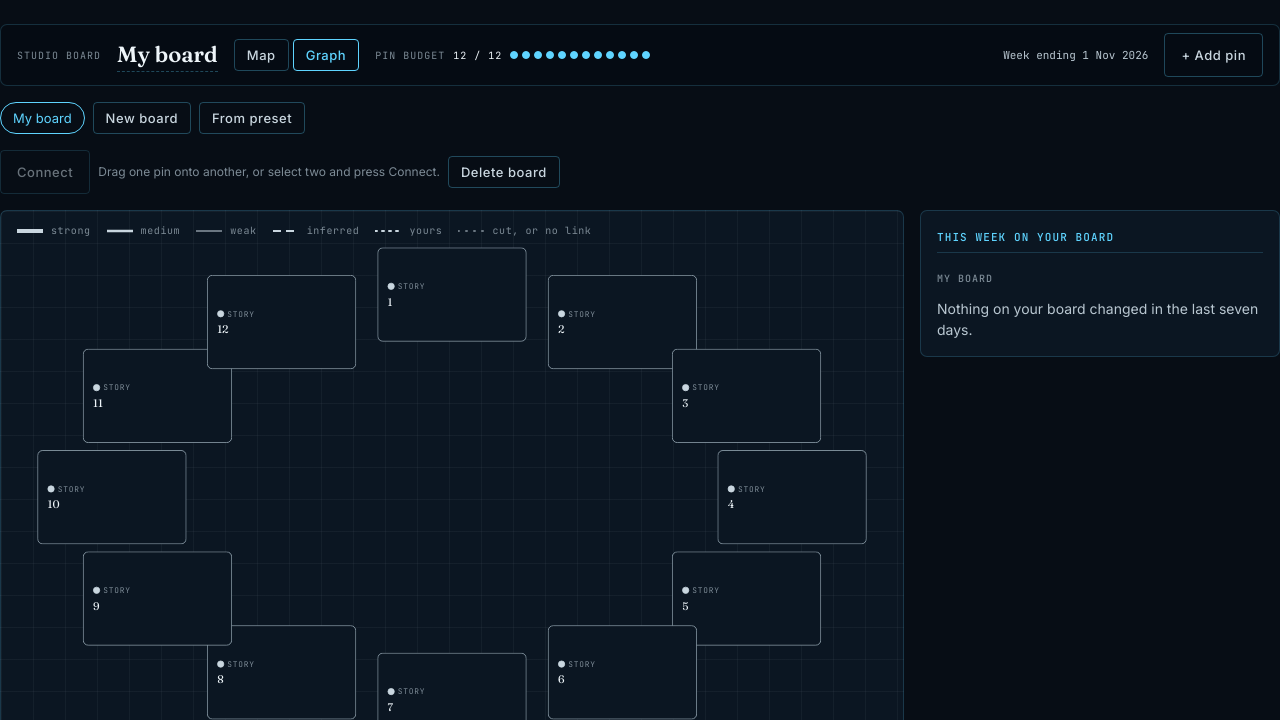
pin budget › shows n / 12 and blocks the 13th pin
The width and height of the screenshot is (1280, 720).
Expected: the text "12 / 12" is shown, [453, 48, 502, 62]
Click the button "+ Add pin" at (1214, 55), box [1164, 33, 1263, 77]
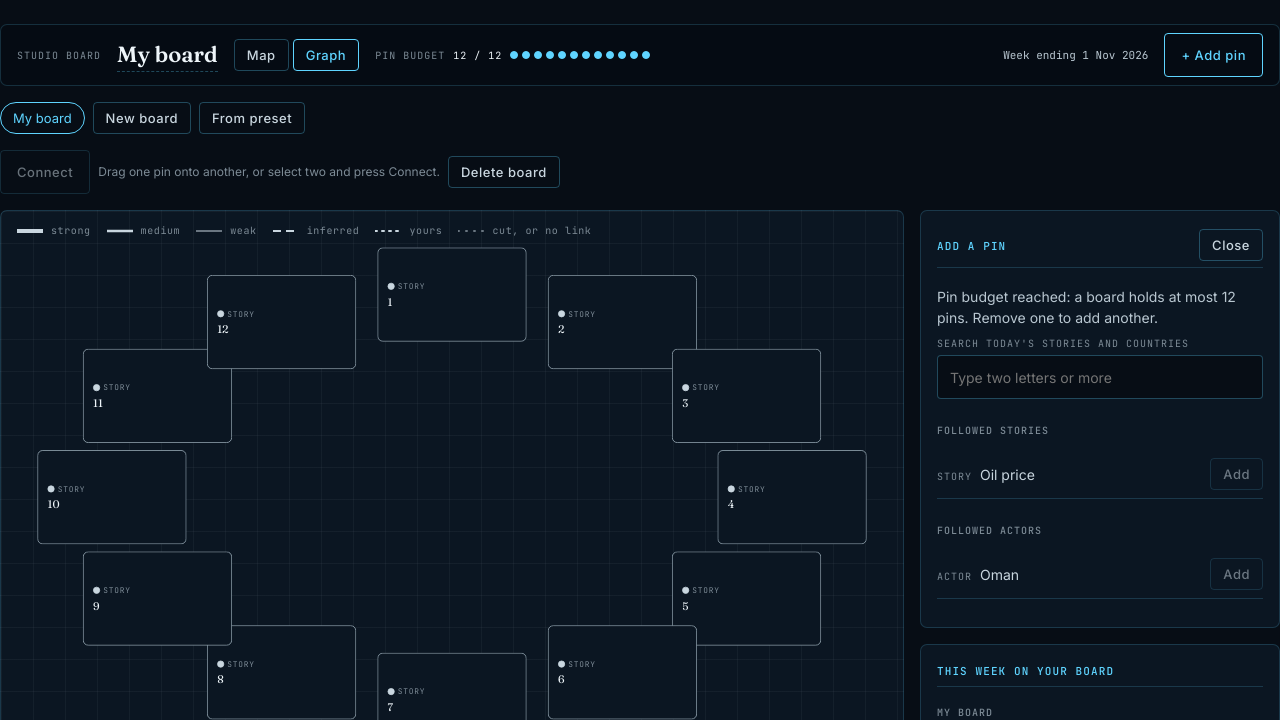
Expected: the text "Pin budget reached: a board holds at most 12 pins. Remove one to add another." is shown, [937, 286, 1263, 328]
Expected: the button with aria-label "Add Oil price" is disabled, [1210, 458, 1263, 490]
